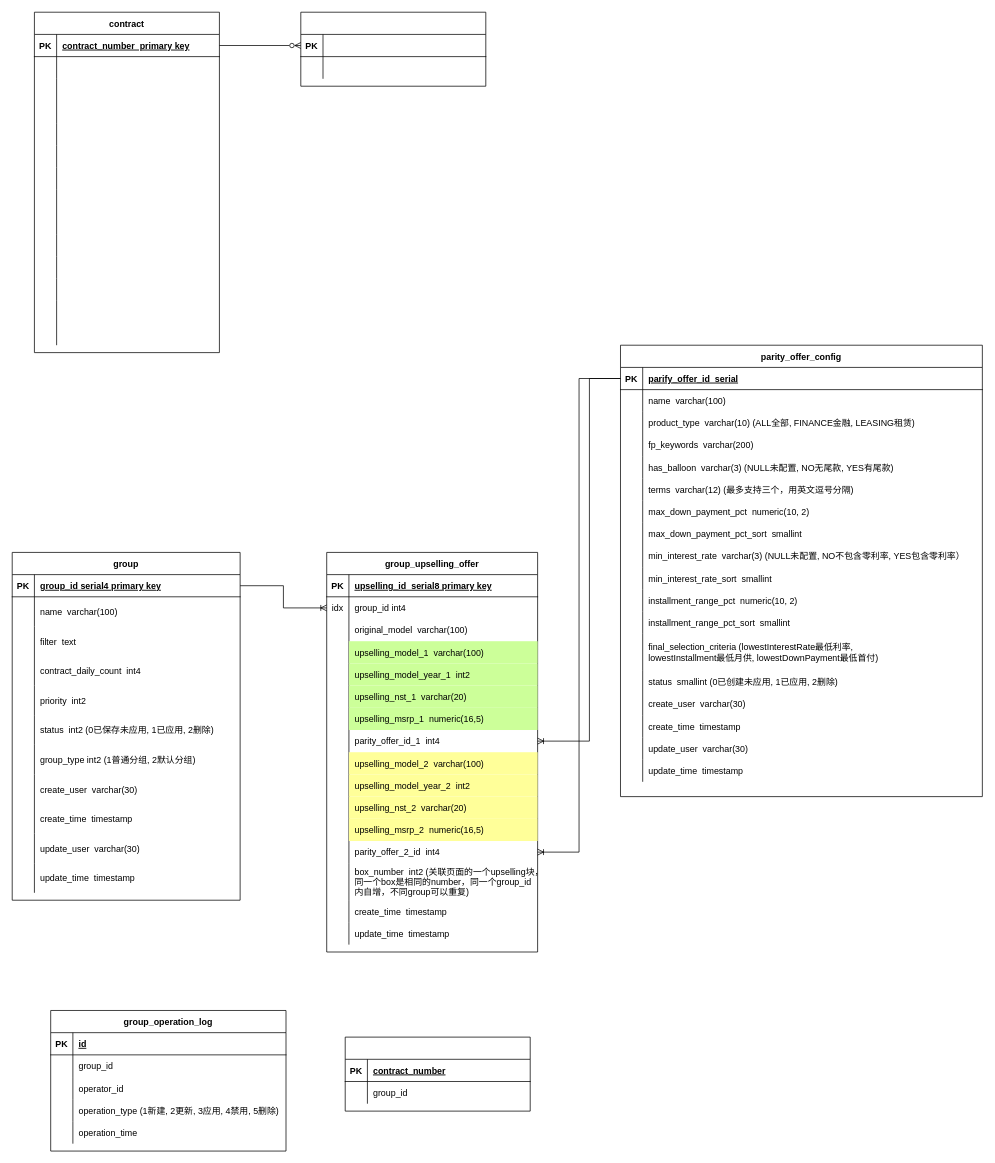
Image size: 995x1163. Some labels were removed from this diagram. Each missing label, with the box of its shape:
group_contract: (344, 1036, 530, 1111)
offer: (300, 11, 486, 86)
